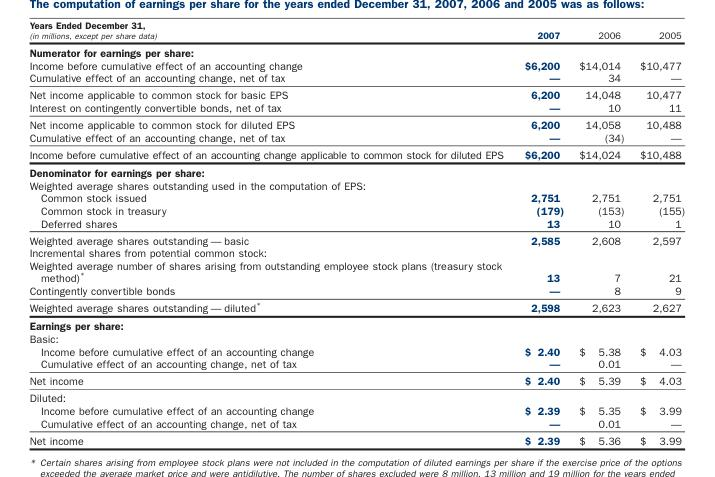table: (28, 28, 684, 445)
table column: (28, 28, 513, 445), (570, 28, 631, 445), (513, 28, 570, 445), (631, 28, 684, 445)
table column header: (28, 28, 684, 42)
table projected row header: (28, 42, 684, 58), (28, 162, 684, 178), (28, 316, 684, 331), (28, 389, 684, 403), (28, 178, 684, 191), (28, 331, 684, 344), (28, 246, 684, 258)
table row: (28, 258, 684, 283), (28, 298, 684, 316), (28, 371, 684, 389), (28, 145, 684, 162), (28, 42, 684, 58), (28, 162, 684, 178), (28, 85, 684, 100), (28, 100, 684, 115), (28, 115, 684, 130), (28, 130, 684, 145), (28, 216, 684, 231), (28, 231, 684, 246), (28, 283, 684, 298), (28, 316, 684, 331), (28, 416, 684, 431), (28, 28, 684, 42), (28, 71, 684, 85), (28, 357, 684, 371), (28, 389, 684, 403), (28, 431, 684, 445), (28, 58, 684, 71), (28, 178, 684, 191), (28, 203, 684, 216), (28, 331, 684, 344), (28, 344, 684, 357), (28, 403, 684, 416), (28, 191, 684, 203), (28, 246, 684, 258)
